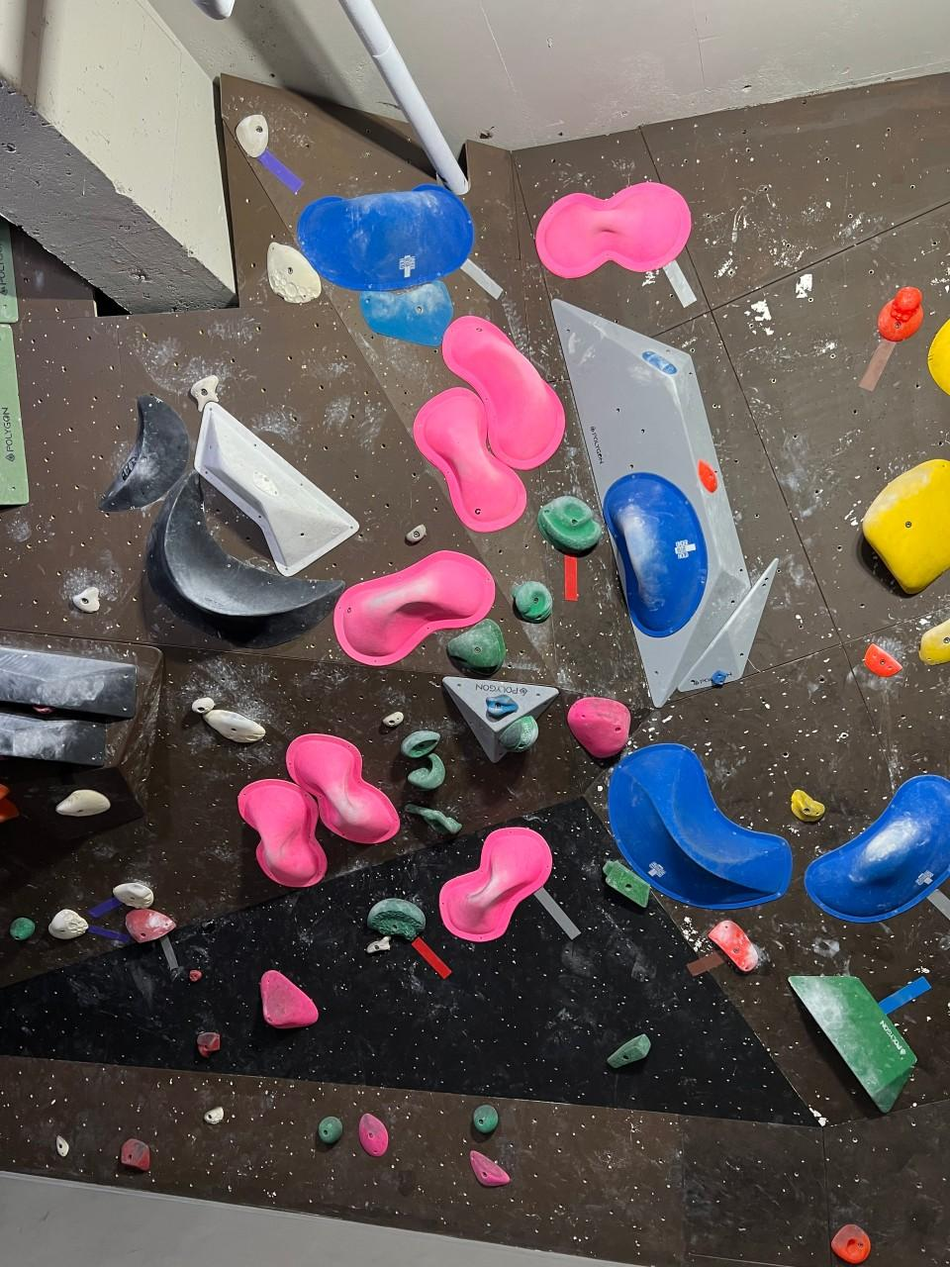hold: (145, 472, 343, 647), (610, 743, 792, 909), (194, 399, 358, 577), (805, 775, 949, 923), (442, 316, 564, 469), (334, 550, 494, 666), (298, 185, 473, 291), (789, 976, 916, 1112), (604, 474, 707, 635), (414, 387, 525, 532), (535, 180, 691, 277), (439, 828, 551, 940), (287, 734, 400, 843), (861, 461, 949, 593), (100, 395, 190, 512), (0, 647, 135, 719), (238, 779, 326, 887), (360, 281, 452, 345), (0, 711, 103, 764), (567, 697, 630, 757), (538, 497, 601, 552), (446, 617, 505, 675), (267, 242, 321, 304), (261, 970, 316, 1027), (709, 920, 759, 972), (877, 287, 922, 341), (368, 899, 425, 940), (203, 709, 264, 744), (606, 861, 648, 908), (405, 804, 461, 834), (831, 1224, 870, 1266), (126, 909, 175, 942), (513, 581, 551, 623), (928, 320, 949, 395), (408, 752, 445, 791), (57, 789, 110, 816), (608, 1034, 650, 1068), (470, 1150, 509, 1186), (919, 620, 949, 664), (237, 114, 267, 157), (359, 1114, 388, 1156), (864, 644, 902, 676), (48, 909, 88, 939), (501, 716, 536, 749), (114, 881, 152, 908), (791, 789, 822, 822), (402, 730, 439, 757), (190, 375, 217, 412), (120, 1138, 149, 1171), (487, 693, 518, 720), (642, 351, 677, 374), (473, 1105, 498, 1135), (72, 587, 99, 613), (318, 1116, 342, 1145), (196, 1031, 220, 1057), (10, 918, 35, 940), (699, 460, 715, 492), (192, 696, 216, 715), (405, 525, 427, 545), (381, 711, 404, 729), (367, 936, 389, 953), (204, 1106, 224, 1124), (712, 669, 727, 686), (56, 1135, 68, 1156), (189, 968, 202, 982)
volume: (553, 301, 755, 713), (677, 558, 777, 691), (443, 678, 557, 762)
